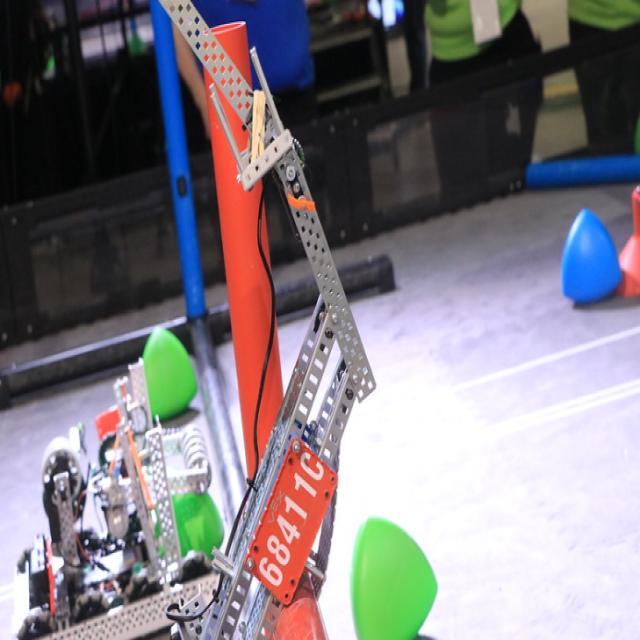License-Plates: (239, 438, 335, 600)
